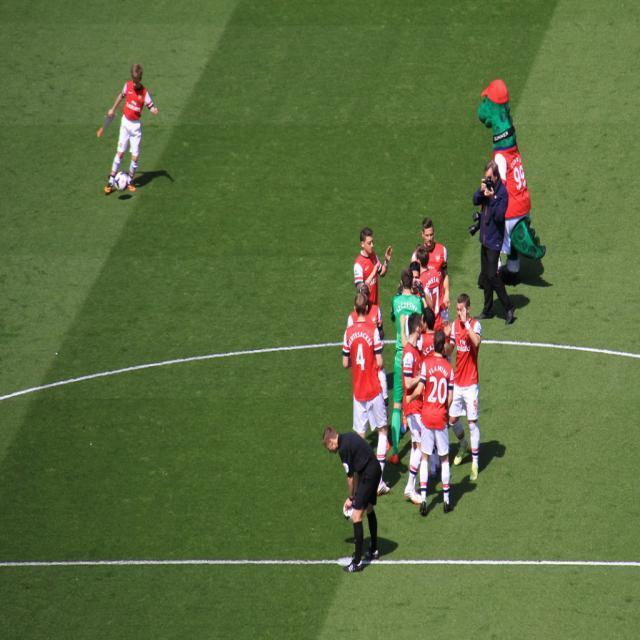football: (106, 168, 143, 195)
